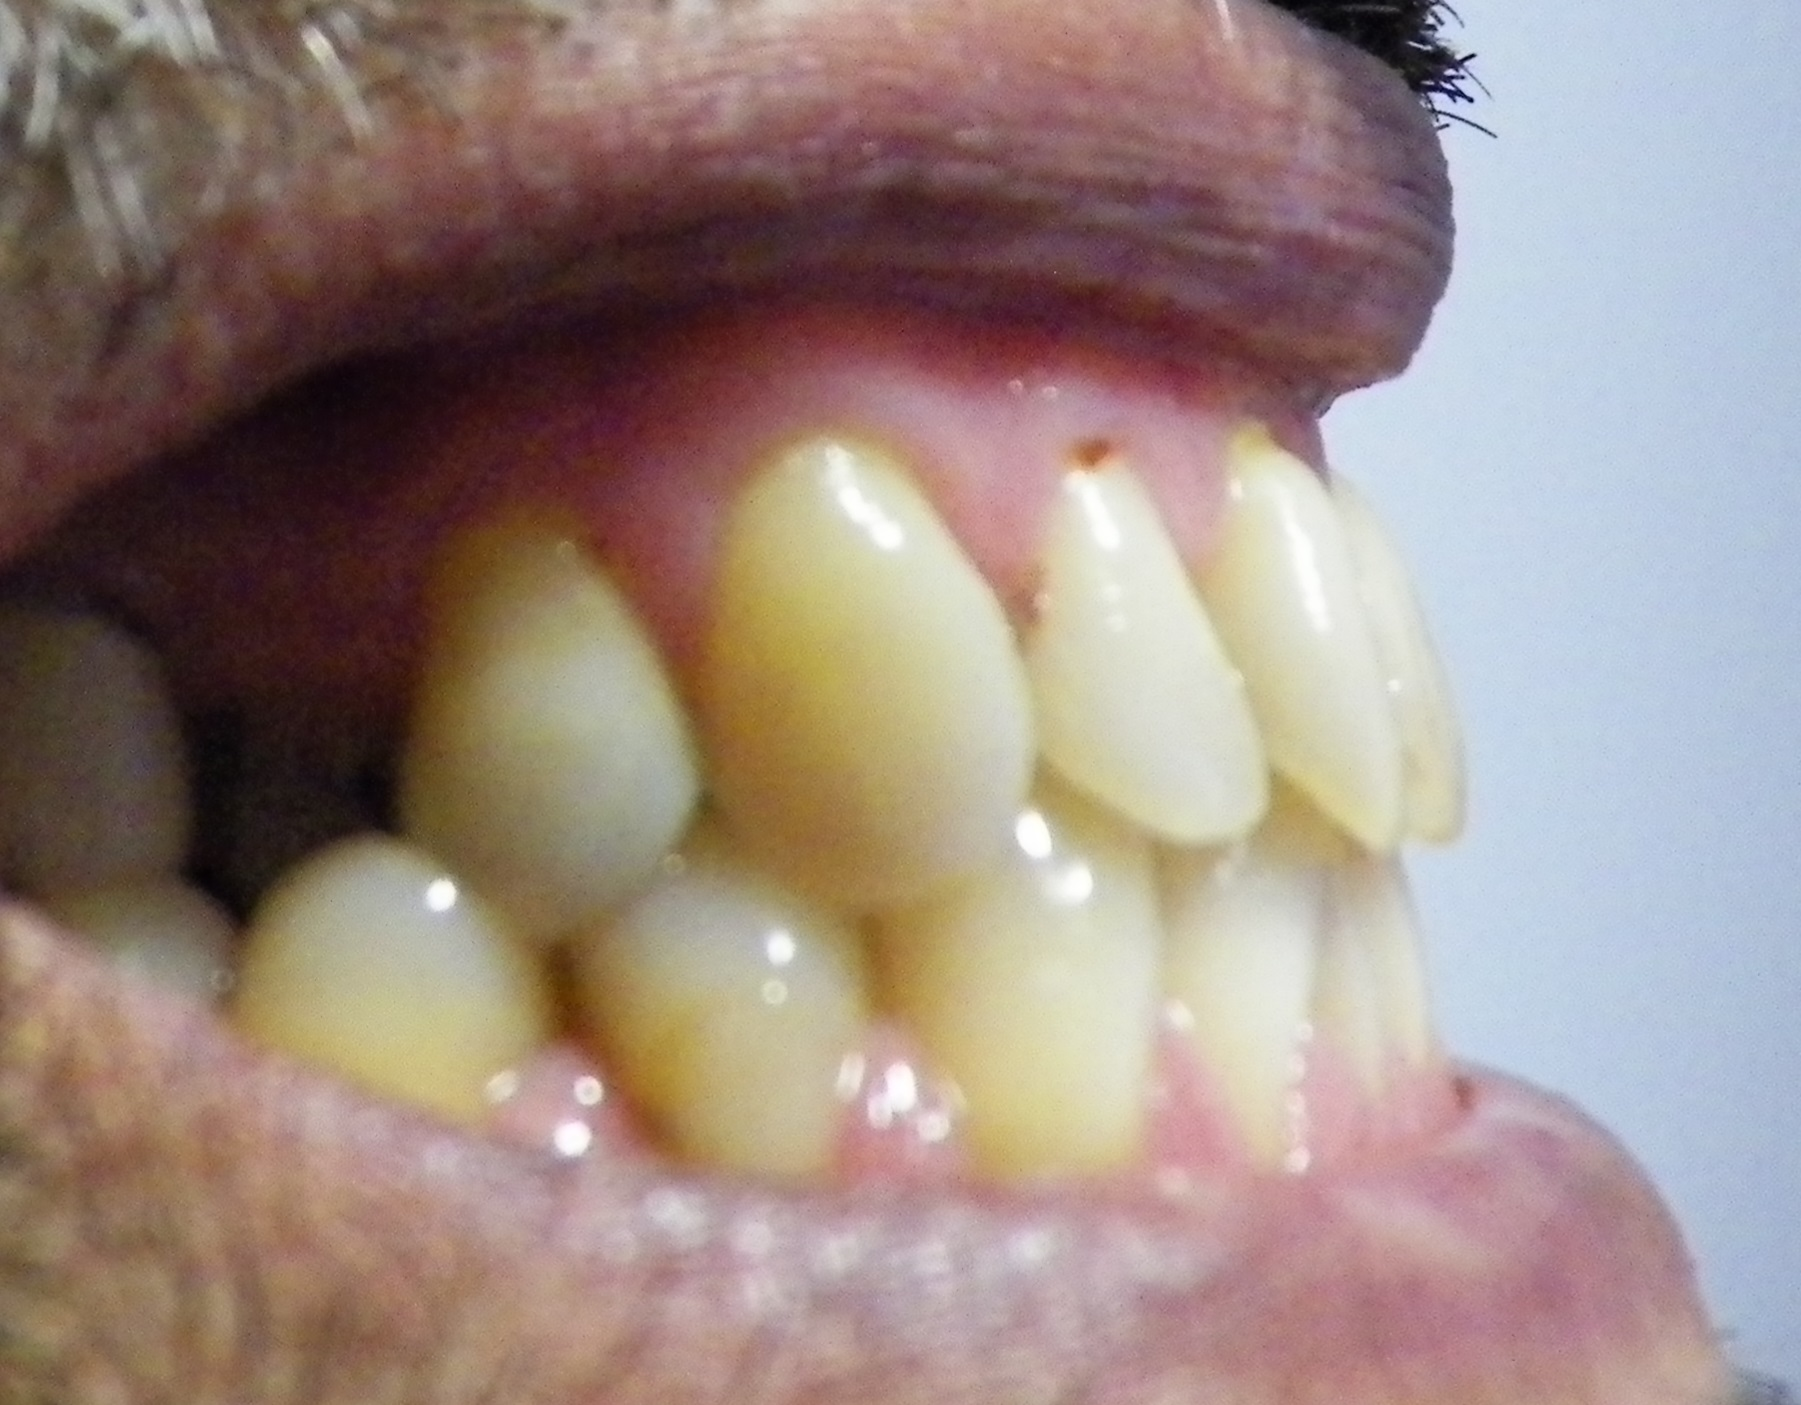boca: (19, 392, 1475, 1151)
